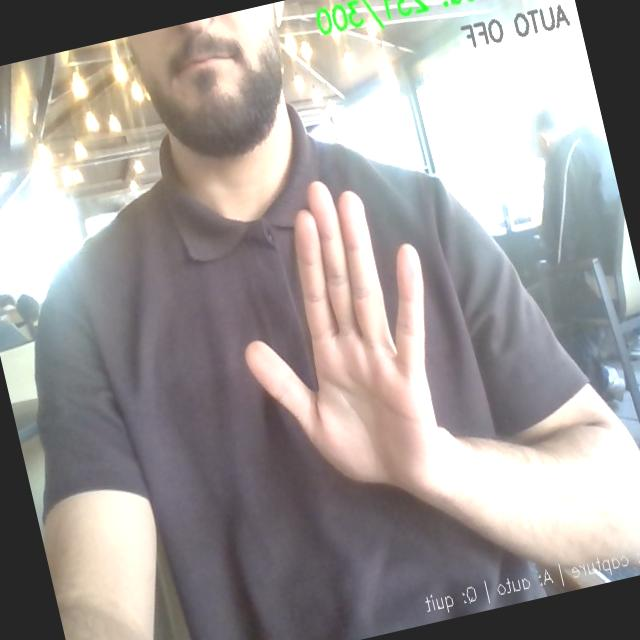Hand: (246, 182, 444, 493)
